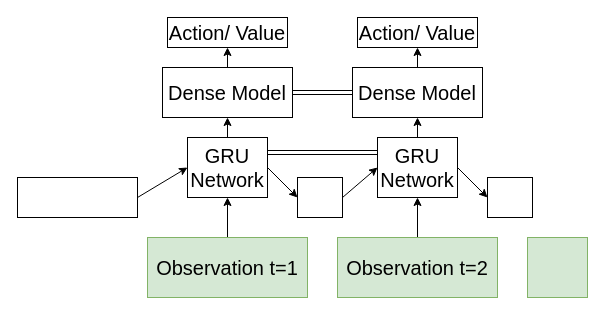
Image size: 605x315. Some labels were removed from this diagram. Each missing label, with the box of its shape:
h_1: (296, 176, 342, 218)
h_2: (486, 176, 532, 218)
Hidden h_0: (16, 176, 138, 218)
t=n: (526, 236, 588, 298)
